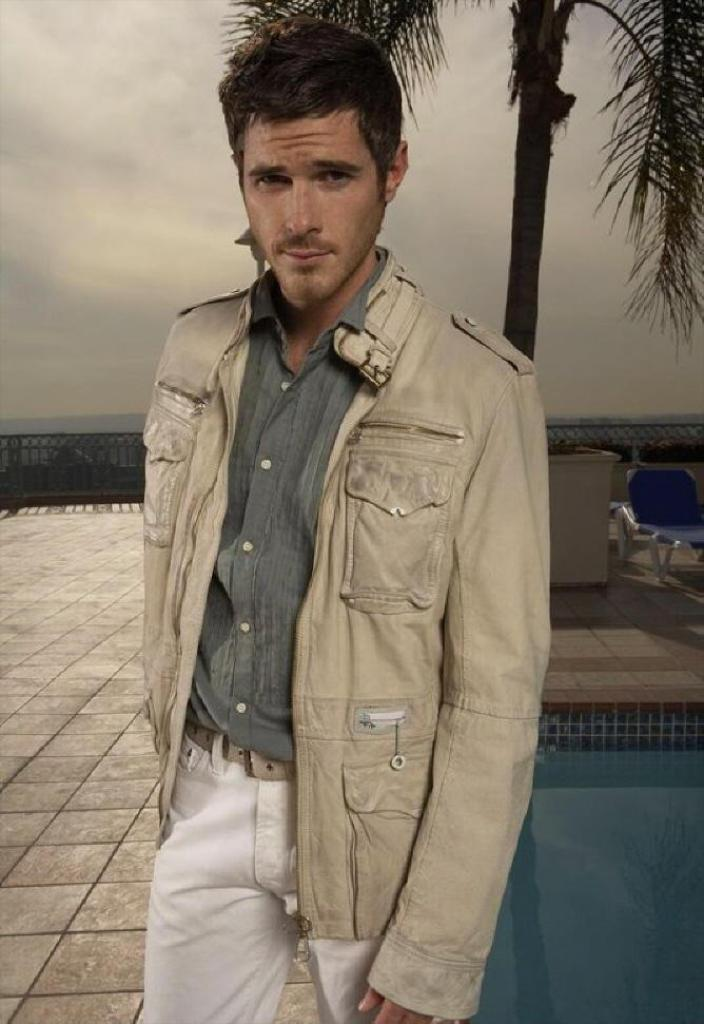Chair: (615, 466, 703, 582)
Computer-mouse: (137, 14, 554, 1020)
